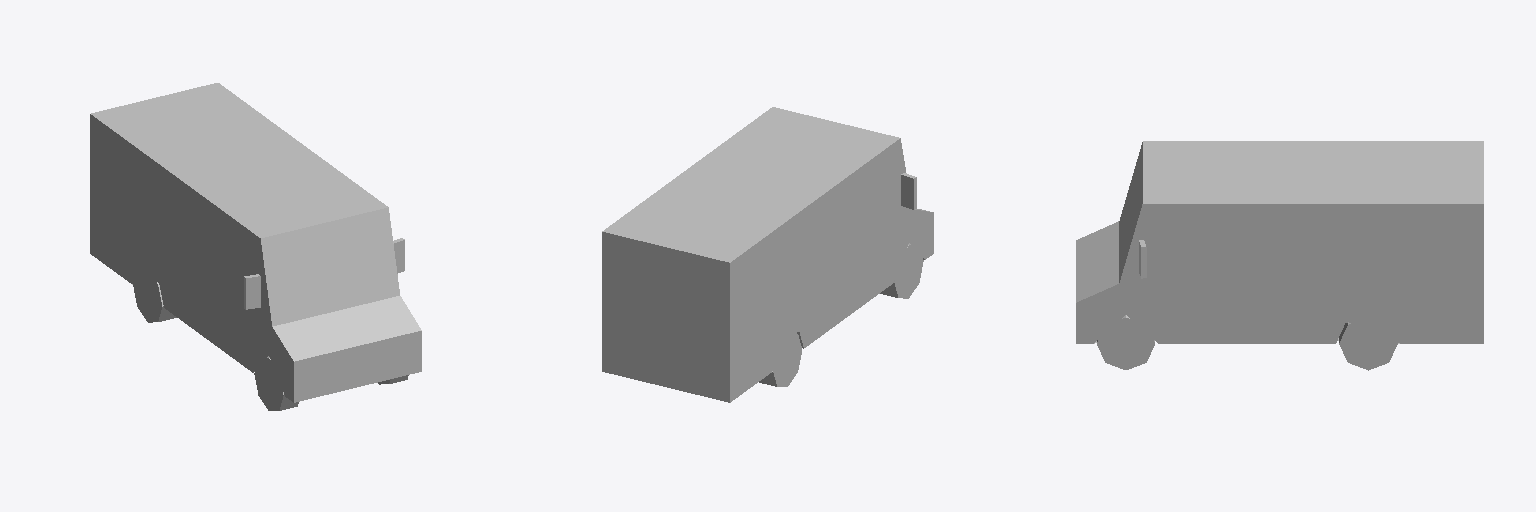
The model's file is Veh_StepVan_01_Green.obj.
The picture shows the model from 3 angles: view 1: azimuth 30°, elevation 25°; view 2: azimuth 150°, elevation 25°; view 3: azimuth 270°, elevation 25°; orthographic projection.
Bounding box in the file's own units: 1.57 × 1.57 × 3.48.